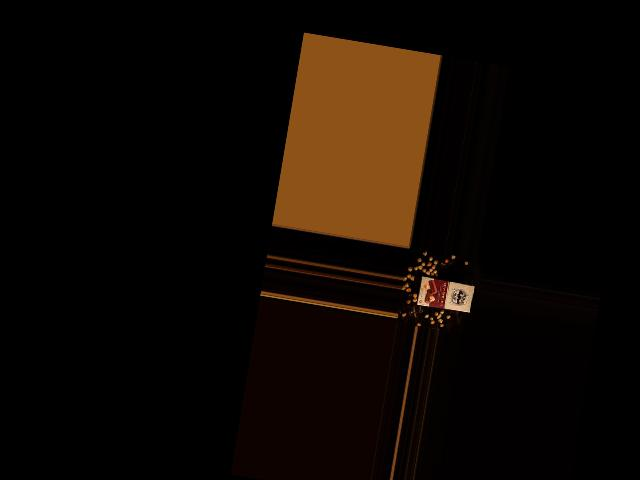chocolate: (415, 273, 476, 315)
